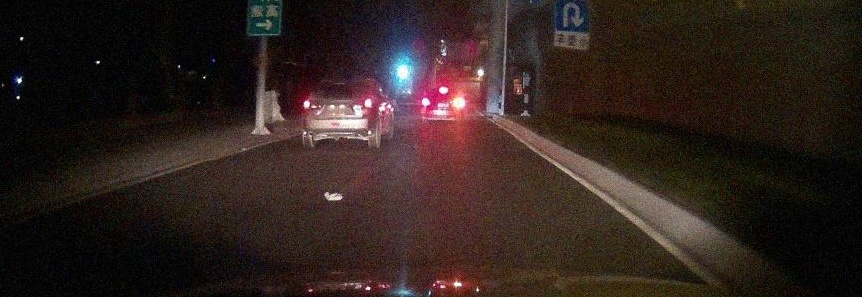L_light: (303, 101, 319, 109), (422, 99, 431, 106)
R_light: (356, 99, 373, 108), (454, 99, 462, 106)
T_light: (339, 81, 350, 86), (439, 88, 448, 93)
night-no: (303, 78, 374, 148)
night-right: (421, 87, 463, 123)
